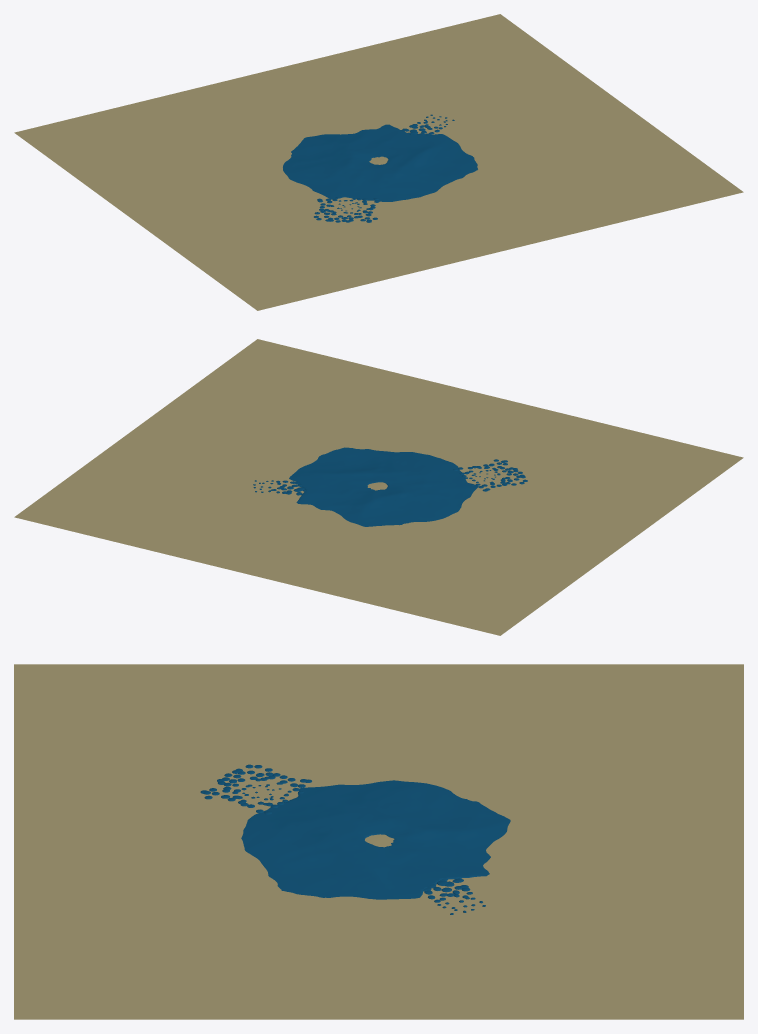
Rendered from Ground.fbx.
3 renders of one model, top to bottom at view 1: azimuth 30°, elevation 25°; view 2: azimuth 150°, elevation 25°; view 3: azimuth 270°, elevation 25°, orthographic. The views are drawn at different scales.
Visible parts, largest first — view 1: Connect_1; view 2: Connect_1; view 3: Connect_1.
Boxes of the visible parts, bbox=[...] form: Connect_1: bbox=[14, 14, 743, 310]; Connect_1: bbox=[14, 339, 743, 635]; Connect_1: bbox=[14, 664, 743, 1019].
Size of the model in its own units: 10300 by 92.18 by 8934.
